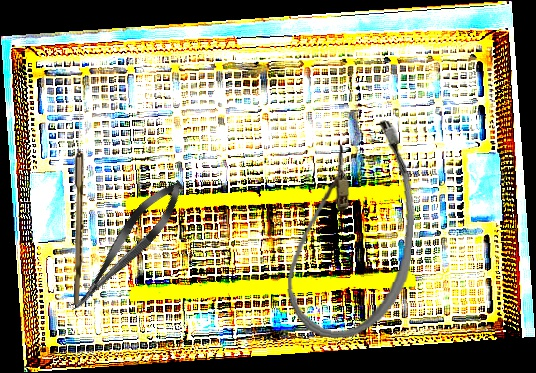Cannula: (283, 113, 423, 344)
Micro Scissor: (60, 171, 193, 322)
Surgical Spoon: (74, 100, 84, 304)
